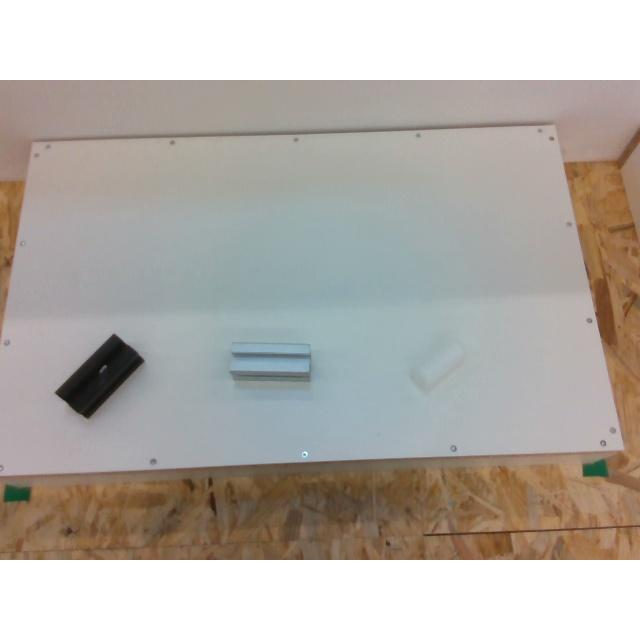S40_40_B: (56, 334, 144, 418)
S40_40_G: (230, 340, 310, 380)
Spacer: (408, 338, 464, 392)
